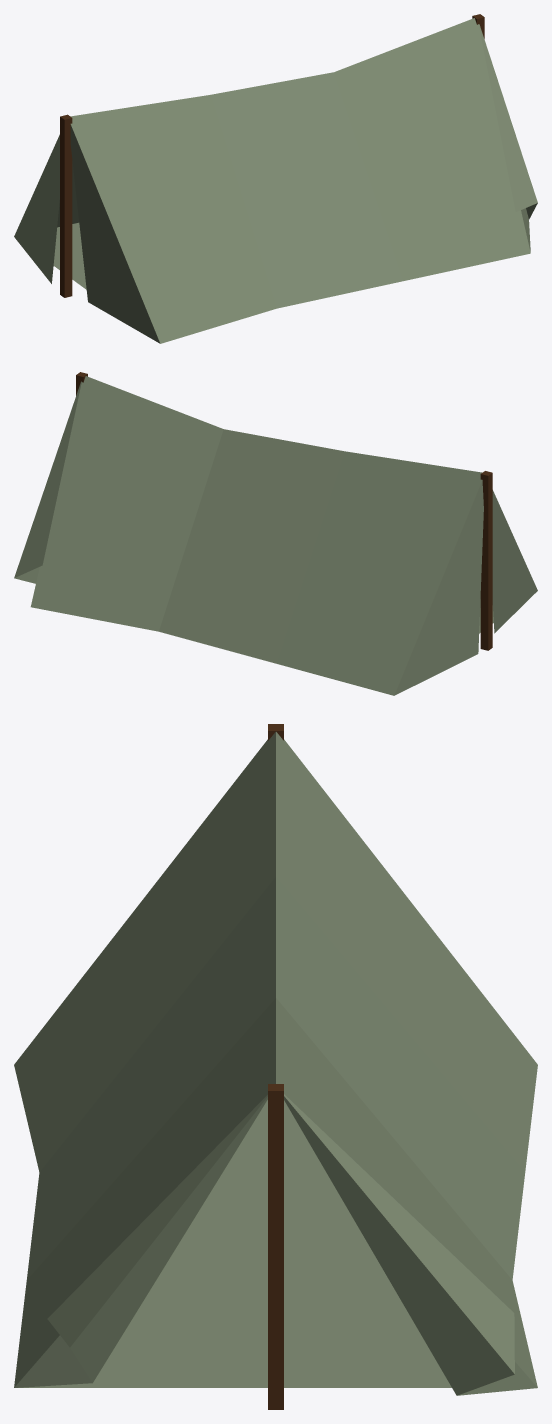
Rendered from Tent1.fbx.
3 views of the same model, one above another, from view 1: azimuth 30°, elevation 25°; view 2: azimuth 150°, elevation 25°; view 3: azimuth 270°, elevation 25° (orthographic). The views are drawn at different scales.
Parts seen in each view (by area): view 1: Tent, TentPole; view 2: Tent, TentPole; view 3: Tent, TentPole.
Part boxes in pixels (x1,y1,x2,y2): Tent: (14, 18, 537, 343); TentPole: (60, 14, 484, 297); Tent: (14, 376, 537, 695); TentPole: (76, 372, 492, 650); Tent: (14, 732, 537, 1395); TentPole: (268, 724, 283, 1409).
Size of the model in its own units: 227 by 92 by 137.
1 material, 1 textured.
